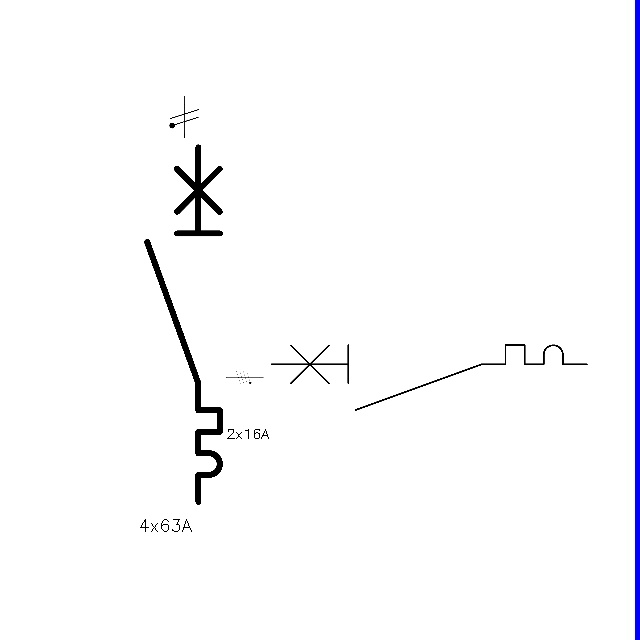interruptor_termomagnetico: (138, 138, 229, 511), (263, 337, 594, 418)
